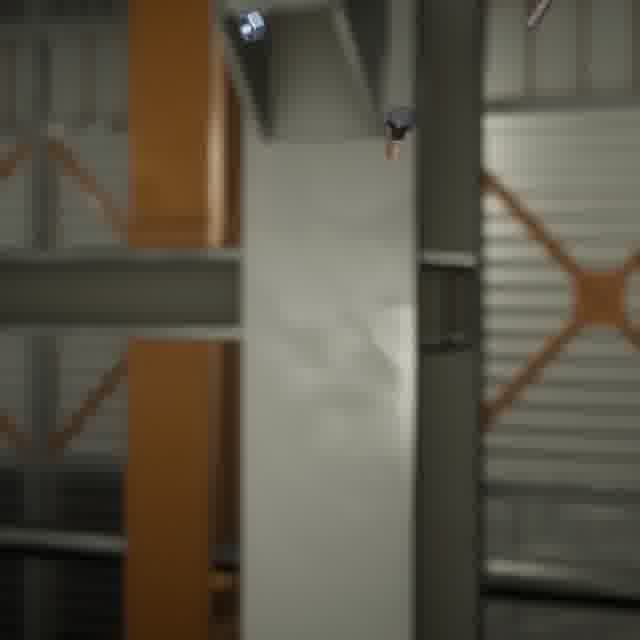bolt: (382, 102, 418, 166), (519, 0, 558, 33)
nut: (234, 6, 269, 45)
